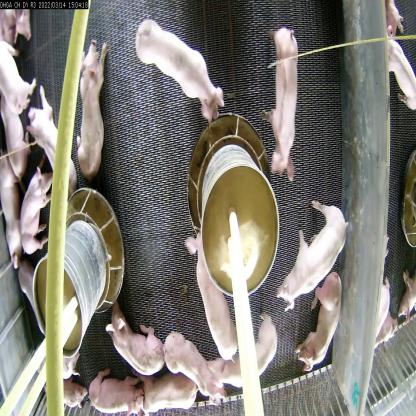Pig: (129, 19, 226, 131), (74, 26, 119, 190), (279, 198, 344, 306), (28, 101, 83, 225), (190, 227, 236, 367), (229, 313, 293, 412), (294, 265, 342, 390), (261, 40, 306, 172), (13, 171, 68, 270), (1, 48, 42, 177), (160, 321, 224, 403), (106, 308, 172, 378), (76, 367, 156, 415), (127, 377, 202, 415)
